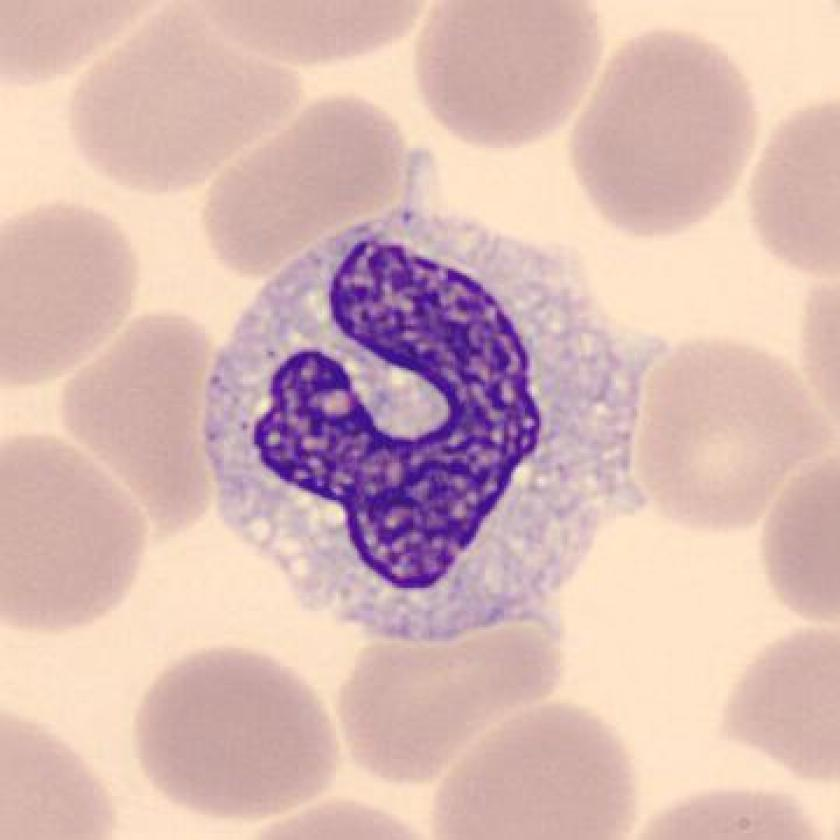monocyte: (176, 184, 682, 663)
